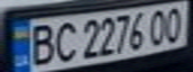2: (78, 16, 103, 61), (97, 12, 118, 57)
6: (127, 9, 151, 51)
7: (112, 11, 133, 54)
B: (24, 20, 57, 68)
C: (48, 19, 81, 63)
O: (160, 3, 190, 44), (145, 6, 172, 46)
